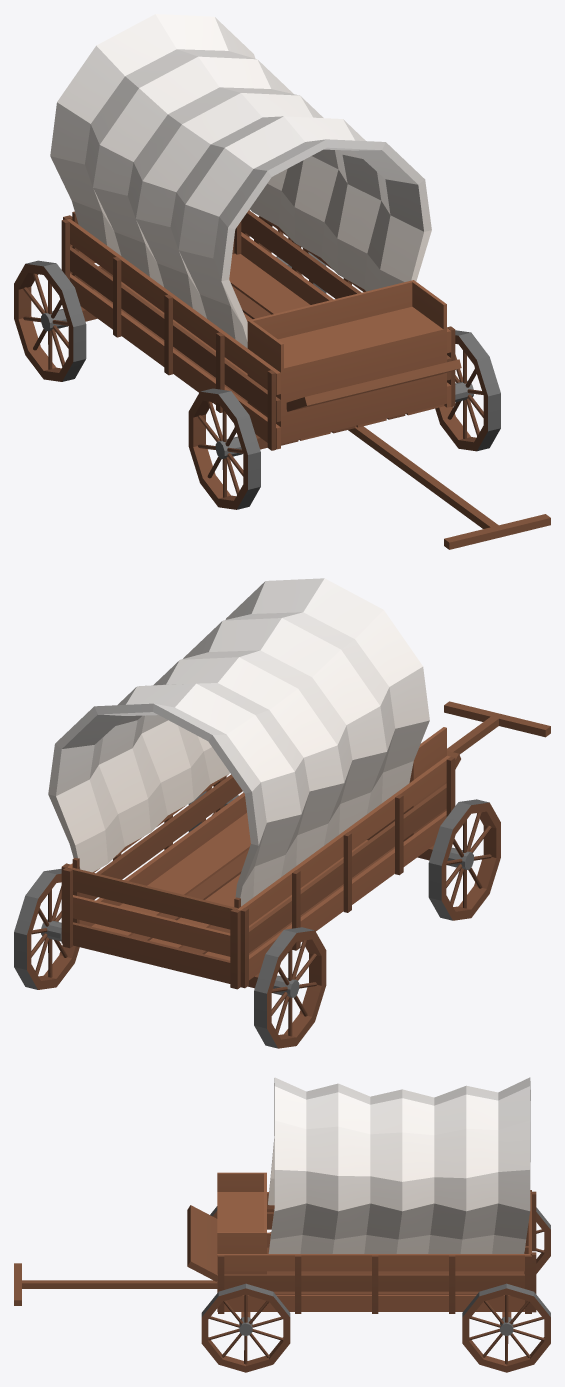
Rendered from cart.fbx.
The picture shows the model from 3 angles, top to bottom: view 1: azimuth 30°, elevation 25°; view 2: azimuth 150°, elevation 25°; view 3: azimuth 270°, elevation 25°; orthographic projection. The views are drawn at different scales.
Visible parts, largest first — view 1: cart body, rear wheels, front wheel 1, front wheel 2, shafts; view 2: cart body, rear wheels, front wheel 1, shafts; view 3: cart body, rear wheels, front wheel 2, shafts.
Boxes of the visible parts, x1=… form: cart body: x1=50, y1=14, x2=461, y2=450; rear wheels: x1=14, y1=216, x2=326, y2=381; front wheel 1: x1=188, y1=388, x2=260, y2=509; front wheel 2: x1=435, y1=330, x2=500, y2=451; shafts: x1=348, y1=426, x2=550, y2=549; cart body: x1=48, y1=578, x2=460, y2=989; rear wheels: x1=14, y1=868, x2=326, y2=1048; front wheel 1: x1=428, y1=799, x2=500, y2=920; shafts: x1=444, y1=701, x2=550, y2=754; cart body: x1=187, y1=1077, x2=536, y2=1317; rear wheels: x1=462, y1=1207, x2=550, y2=1372; front wheel 2: x1=201, y1=1283, x2=290, y2=1372; shafts: x1=14, y1=1263, x2=217, y2=1305.
Size of the model in its own units: 243 by 297 by 599.
